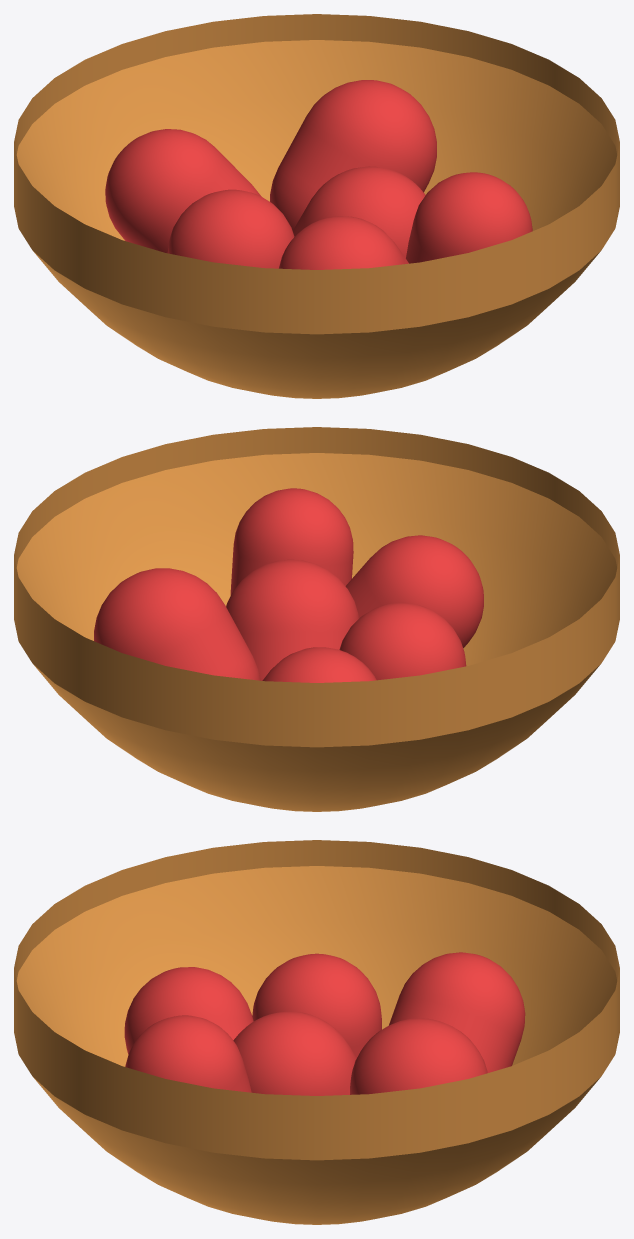
File: Eye_Red.fbx
3 renders of one model, top to bottom at view 1: azimuth 30°, elevation 25°; view 2: azimuth 150°, elevation 25°; view 3: azimuth 270°, elevation 25°, orthographic.
Parts seen in each view (by area): view 1: Citerne_1, Citerne_1_2, Citerne_2, Citerne_6, Citerne_3, Citerne_4, Citerne_5; view 2: Citerne_1, Citerne_1_2, Citerne_4, Citerne_5, Citerne_6, Citerne_3, Citerne_2; view 3: Citerne_1, Citerne_2, Citerne_4, Citerne_1_2, Citerne_3, Citerne_6, Citerne_5.
Part boxes in pixels (box(x1,y1,x2,y2)): Citerne_1: box(14, 14, 619, 398); Citerne_1_2: box(270, 80, 436, 230); Citerne_2: box(105, 129, 261, 253); Citerne_6: box(406, 172, 532, 263); Citerne_3: box(167, 189, 294, 268); Citerne_4: box(292, 166, 425, 258); Citerne_5: box(279, 216, 408, 269); Citerne_1: box(14, 427, 619, 811); Citerne_1_2: box(94, 568, 260, 680); Citerne_4: box(226, 559, 358, 680); Citerne_5: box(345, 535, 483, 647); Citerne_6: box(230, 488, 353, 595); Citerne_3: box(339, 602, 466, 680); Citerne_2: box(262, 647, 376, 682); Citerne_1: box(14, 840, 619, 1224); Citerne_2: box(389, 952, 525, 1072); Citerne_4: box(233, 1011, 356, 1095); Citerne_1_2: box(350, 1018, 487, 1094); Citerne_3: box(252, 953, 381, 1058); Citerne_6: box(125, 1015, 251, 1092); Citerne_5: box(124, 967, 253, 1054).
Bounding box in the file's own units: 200 × 83.36 × 200.
